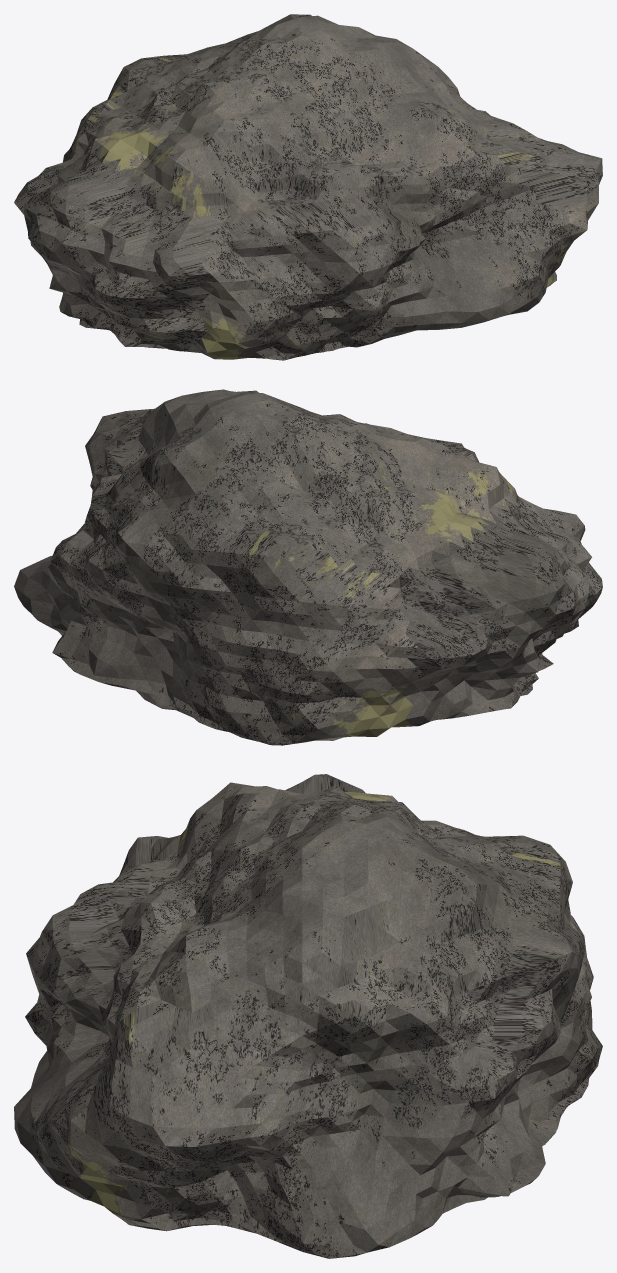
Rendered from rock_c.glb.
3 renders of one model, top to bottom at view 1: azimuth 30°, elevation 25°; view 2: azimuth 150°, elevation 25°; view 3: azimuth 270°, elevation 25°, orthographic. The views are drawn at different scales.
Parts seen in each view (by area): view 1: rock_c; view 2: rock_c; view 3: rock_c.
Part boxes in pixels (x1=…): rock_c: x1=14, y1=14, x2=602, y2=360; rock_c: x1=14, y1=389, x2=602, y2=745; rock_c: x1=14, y1=774, x2=602, y2=1258.
Size of the model in its own units: 1.53 by 0.6883 by 1.18.
1 material, 1 textured.
